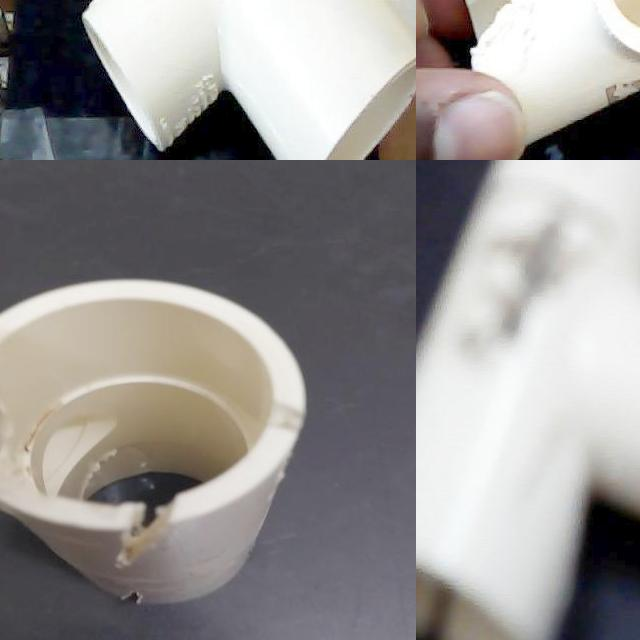Defective: (430, 199, 609, 390), (454, 0, 553, 73), (113, 498, 176, 566), (421, 575, 464, 640), (586, 56, 640, 107), (0, 337, 18, 453), (119, 586, 156, 615)
T Joint: (416, 160, 640, 640), (81, 0, 416, 160)
